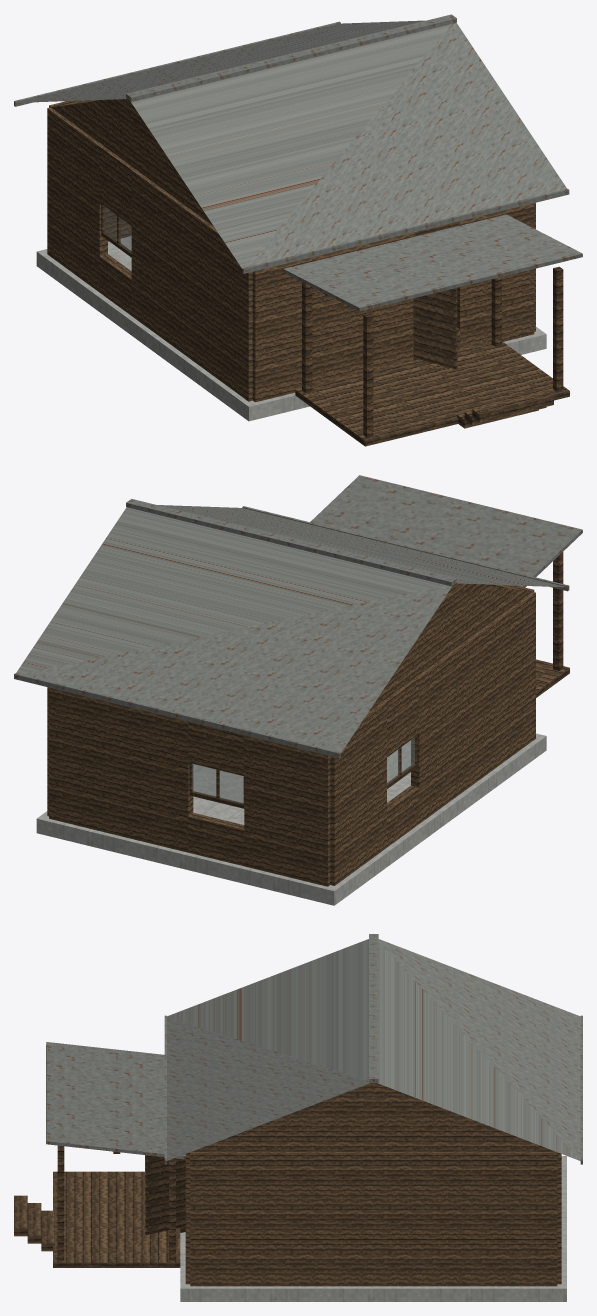
File: building.house.village.glb
3 views of the same model, one above another, from view 1: azimuth 30°, elevation 25°; view 2: azimuth 150°, elevation 25°; view 3: azimuth 270°, elevation 25° (orthographic). The views are drawn at different scales.
Parts seen in each view (by area): view 1: building.house.village; view 2: building.house.village; view 3: building.house.village.
Part boxes in pixels (x1,y1,x2,y2): building.house.village: [14, 14, 582, 446]; building.house.village: [14, 475, 582, 905]; building.house.village: [14, 934, 582, 1301].
Bounding box in the file's own units: 7 × 5.17 × 11.62.
6 materials, 6 textured.
